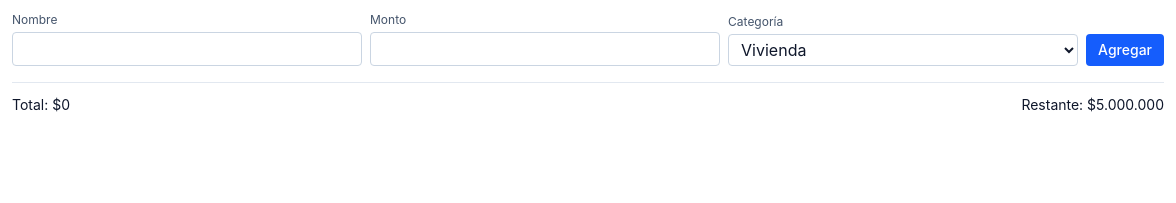
Scenario: FixedExpenseList (AC-4.1 AC-4.2 TC-C-012) › AC-4.1 TC-C-012: submitting the form adds an expense to the list
Type "Arriendo" into the field labelled "Nombre" at (187, 49), box [12, 32, 362, 66]
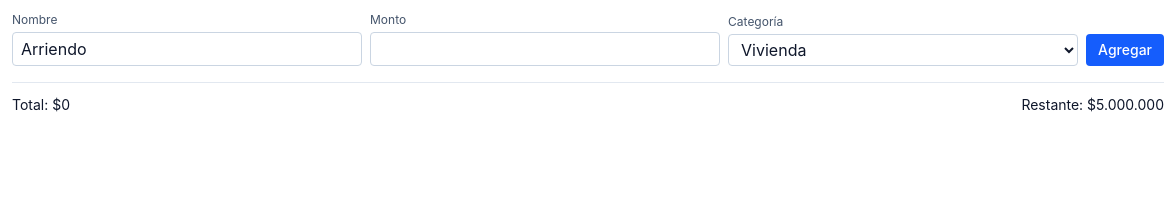
Type "1500000" into the field labelled "Monto" at (545, 49), box [370, 32, 720, 66]
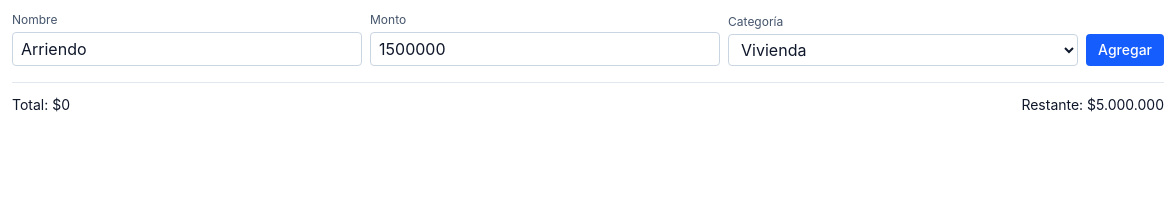
Select "Vivienda" in the dropdown labelled "Categoría" at (903, 50), box [728, 34, 1078, 66]
Click the button "Agregar" at (1125, 50), box [1086, 34, 1164, 66]
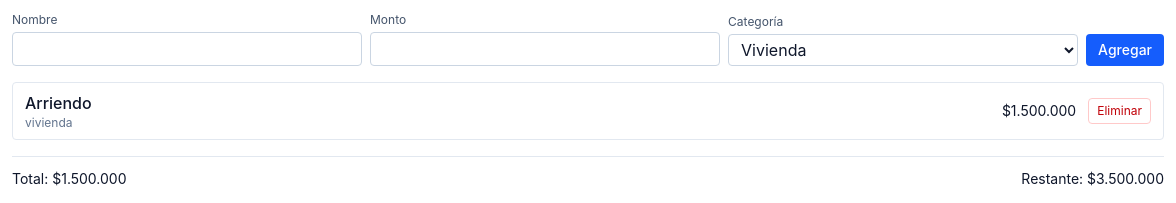
Result: the text "Arriendo" is shown at [25, 91, 92, 115]
